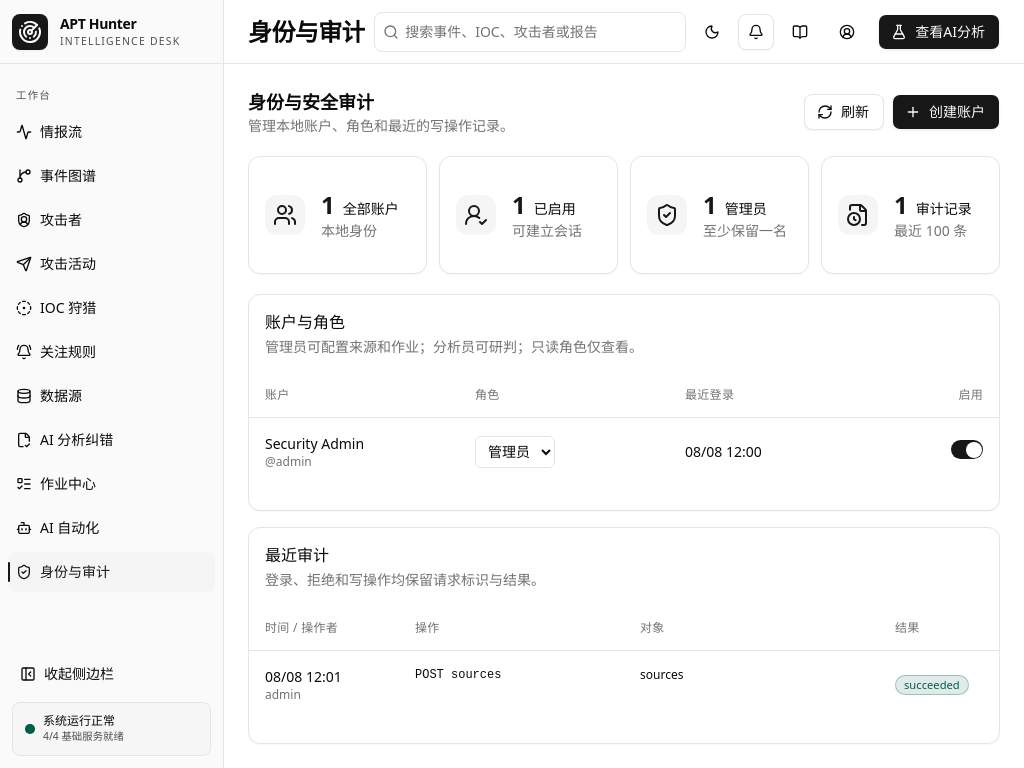
it: identity and audit administration › shows accounts and audit records and creates a role-scoped user
Later steps or results of the test are not shown.
Check: the text "Security Admin" is shown, box [265,434,364,452]
Check: the text "POST sources" is shown, box [399,650,624,718]
What coordinates should you click on to do the following:
click the button "创建账户"
I would click on:
 (946, 112)
Its box is [892,94,1000,130].
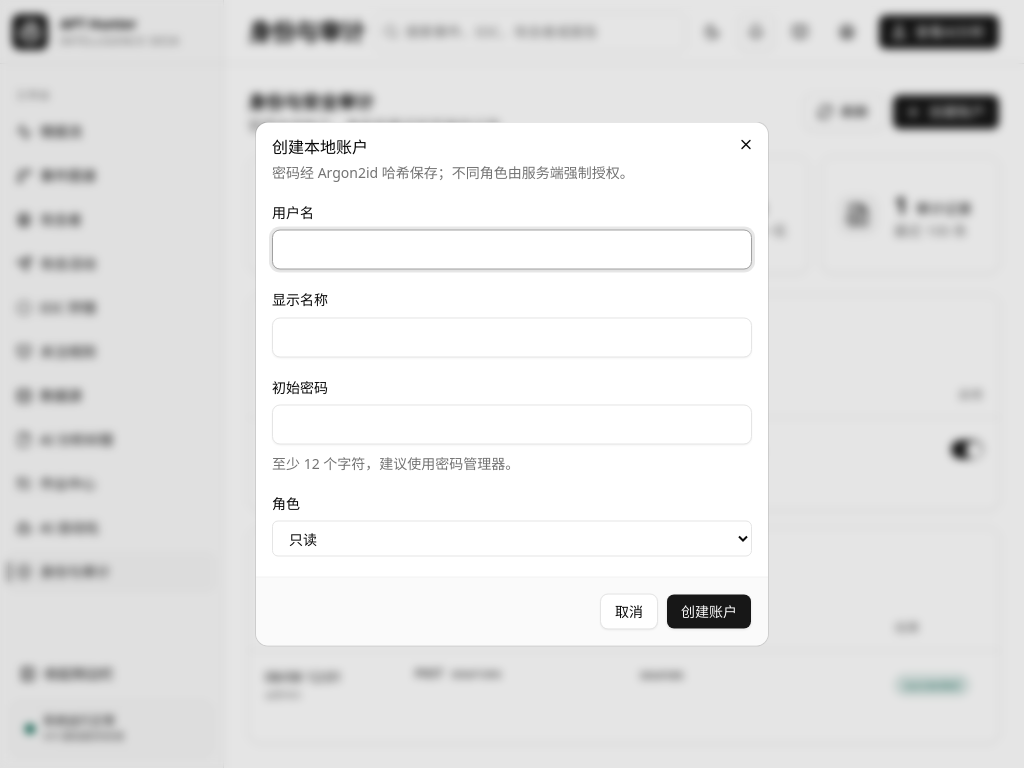
What coordinates should you click on to do the following:
click the button "创建账户"
I would click on:
 (709, 612)
Its box is [666,594,752,630].
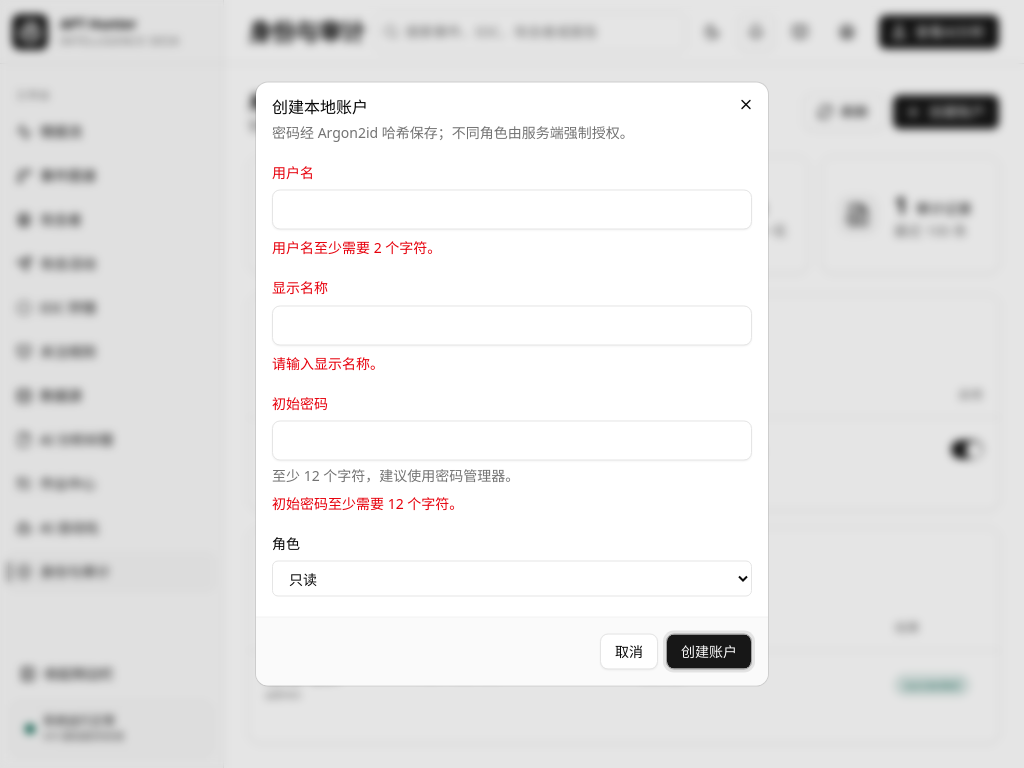
Check: the text "用户名至少需要 2 个字符。" is shown, box [272,238,441,257]
